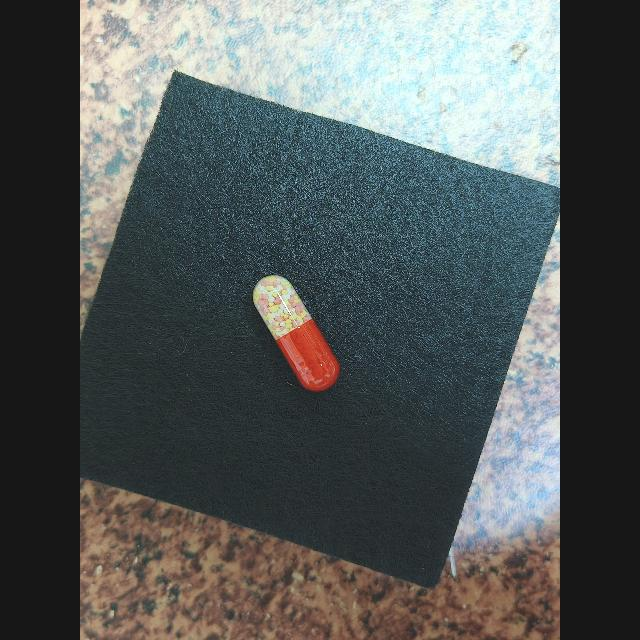Intact Capsule: (252, 275, 339, 391)
